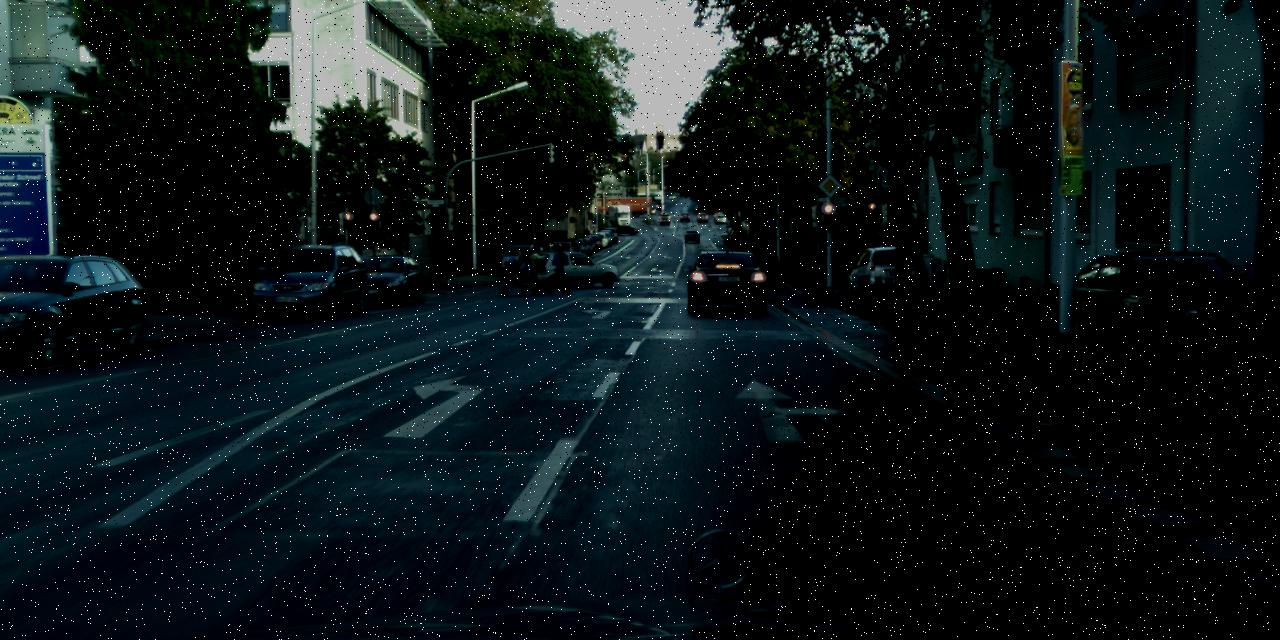ped: (546, 245, 564, 292), (502, 248, 520, 293), (518, 248, 536, 293), (522, 250, 540, 294), (511, 248, 525, 283), (561, 244, 570, 267), (570, 245, 579, 267), (556, 233, 563, 250), (584, 228, 588, 242), (600, 225, 604, 236)
